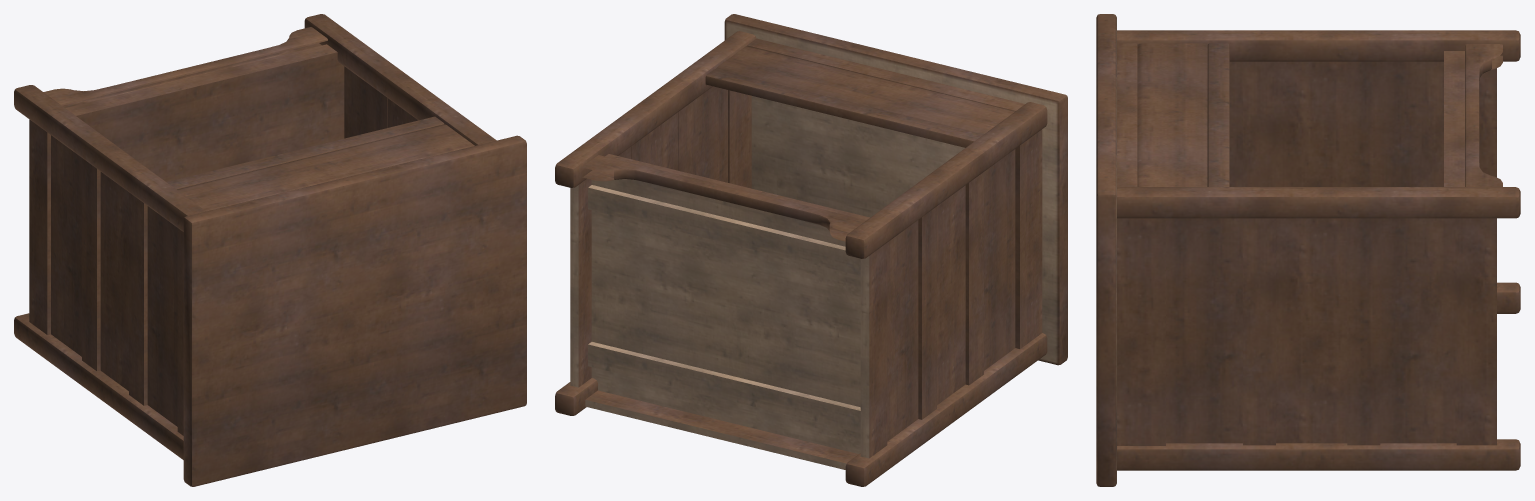
File: Table_Frame.obj
3 views of the same model, side by side, from view 1: azimuth 30°, elevation 25°; view 2: azimuth 150°, elevation 25°; view 3: azimuth 270°, elevation 25° (orthographic). The views are drawn at different scales.
Parts seen in each view (by area): view 1: Table_Frame; view 2: Table_Frame; view 3: Table_Frame.
Part boxes in pixels (left/top/right/bottom): Table_Frame: left=14, top=14, right=526, bottom=486; Table_Frame: left=555, top=14, right=1067, bottom=486; Table_Frame: left=1096, top=14, right=1520, bottom=486.
Size of the model in its own units: 4.63 by 3.5 by 4.57.
Materials: 1 (1 with a texture image).
